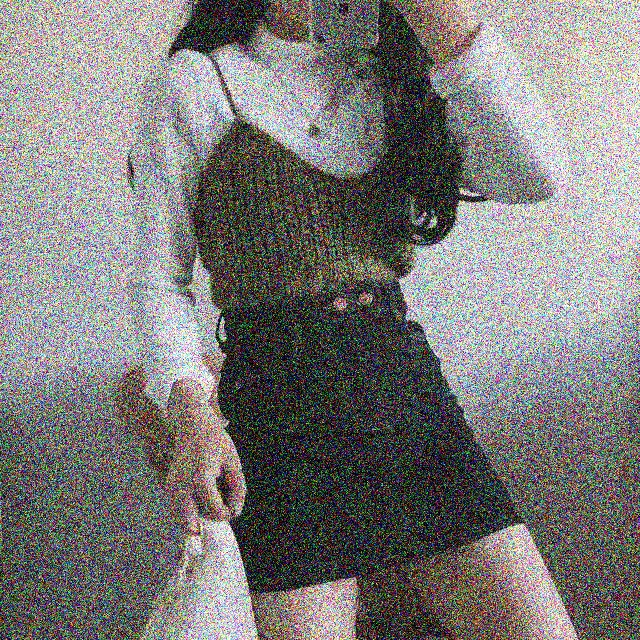Miniskirt: (215, 285, 549, 606)
